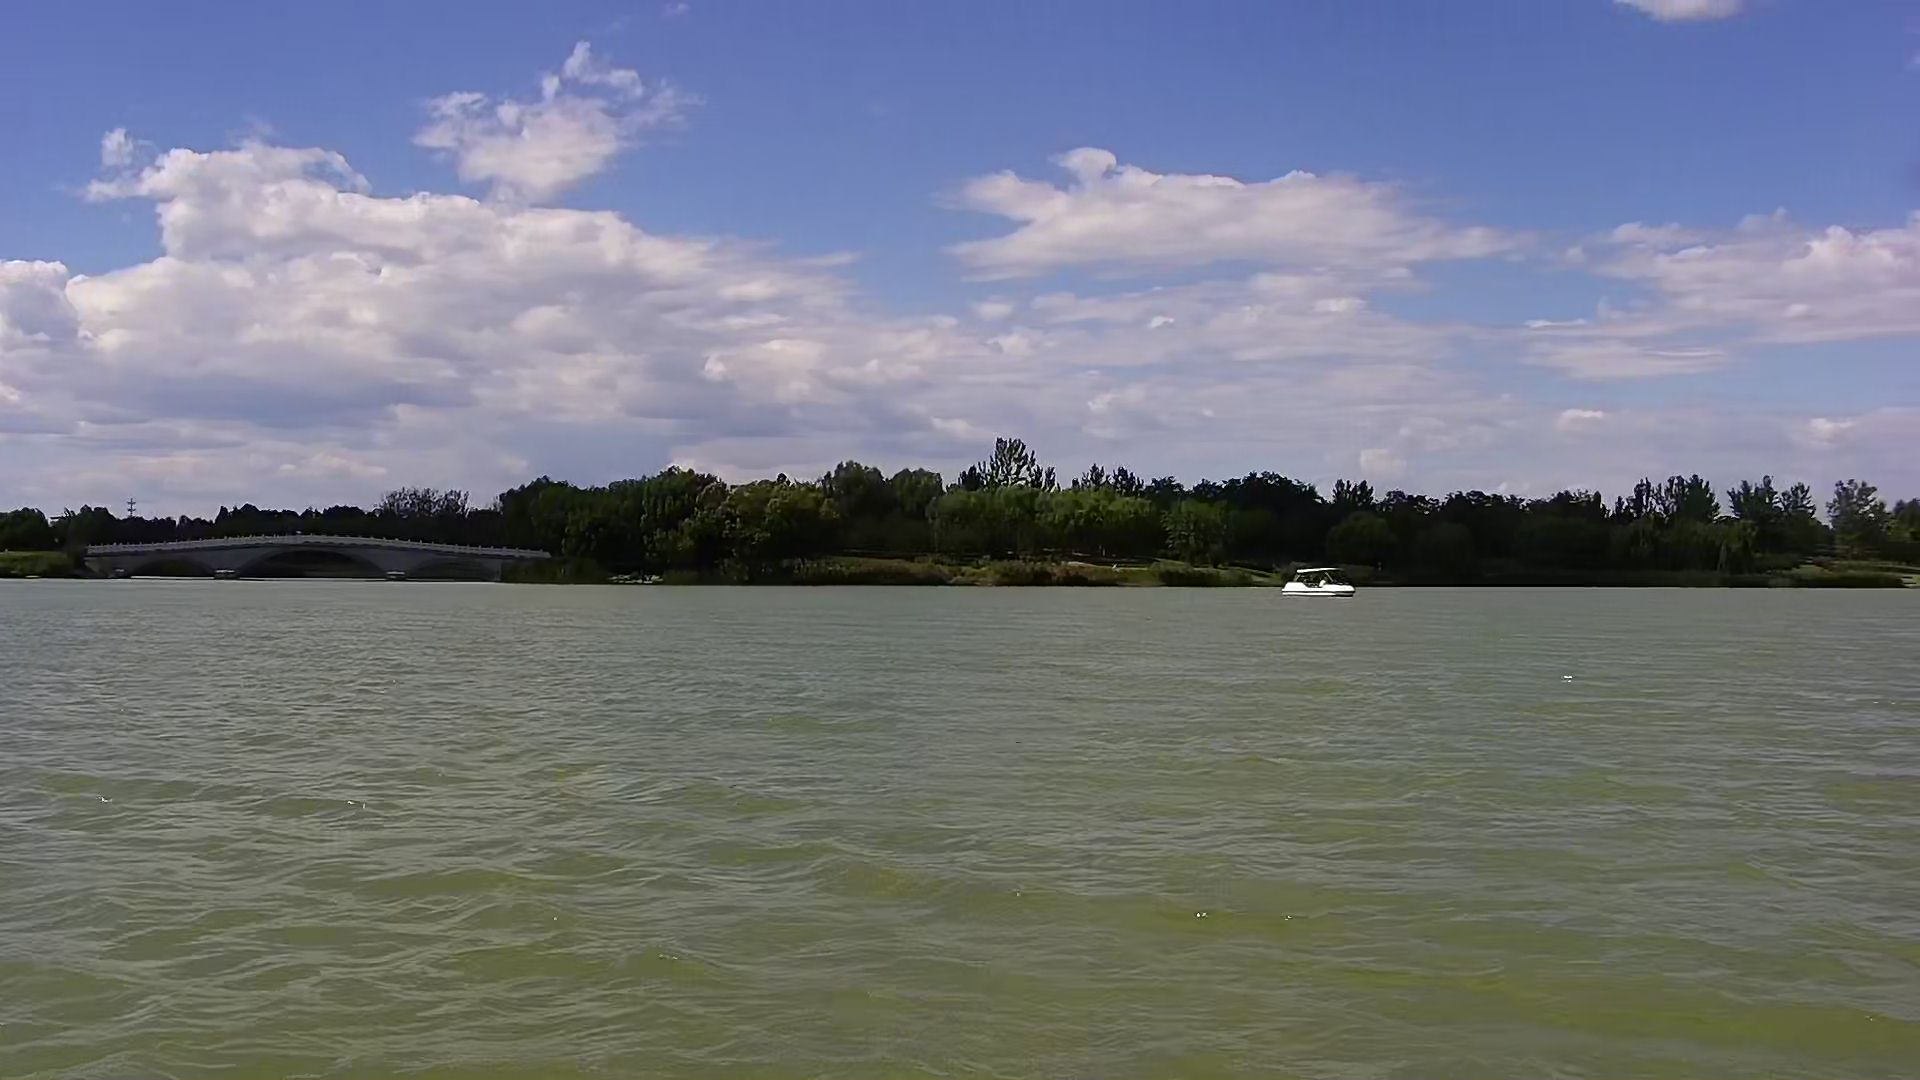boat: (1271, 559, 1364, 607)
bridge: (87, 529, 550, 591)
